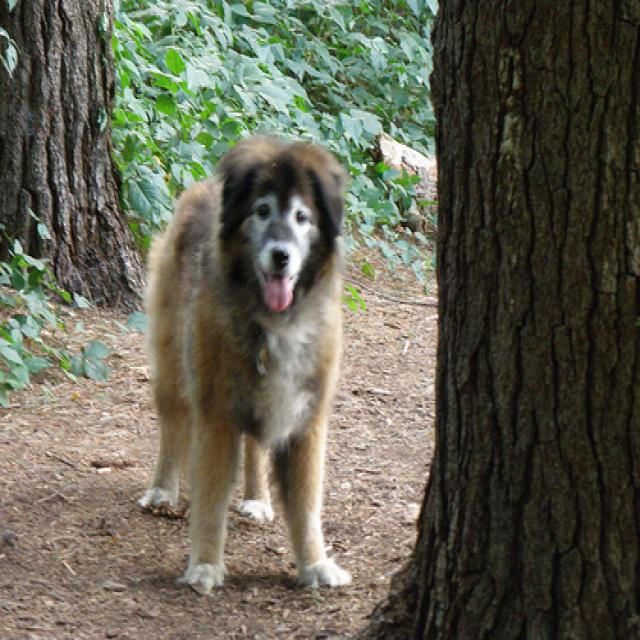dog-leonberger: (143, 133, 352, 592)
